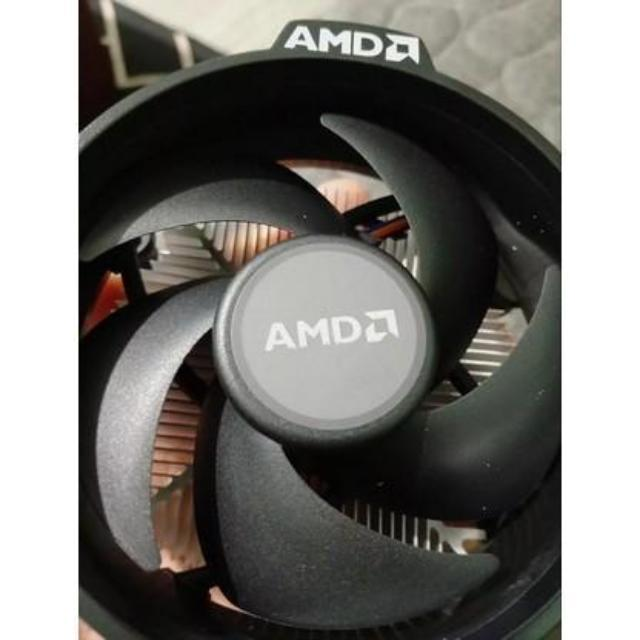CPU_Fan: (56, 28, 568, 640)
